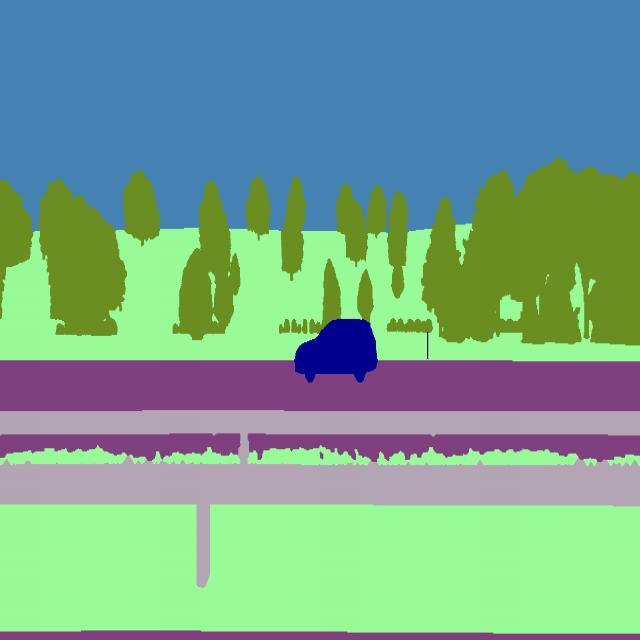safe: (291, 306, 381, 392)
